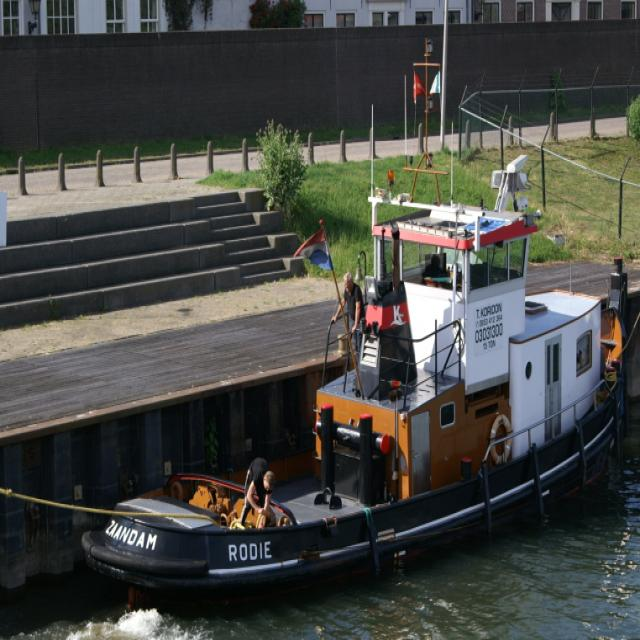tugboat: (79, 148, 640, 630)
